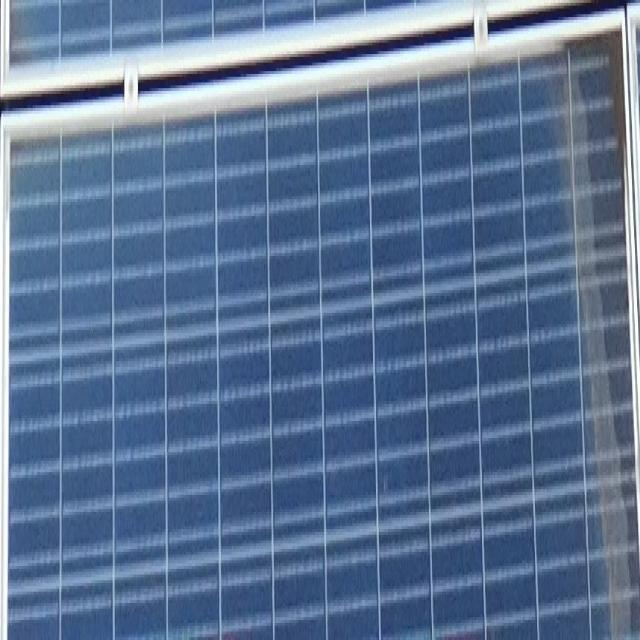Dust: (558, 29, 640, 620)
